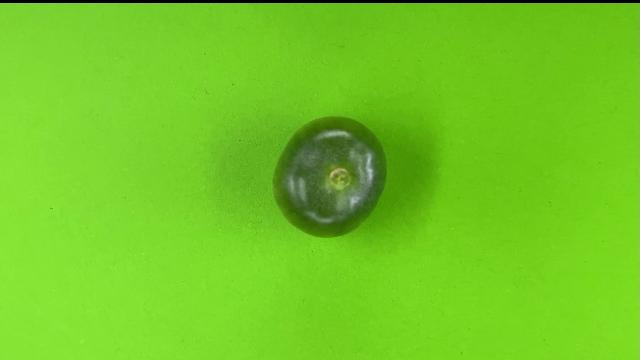Fruit Maturation: (270, 114, 390, 240)
